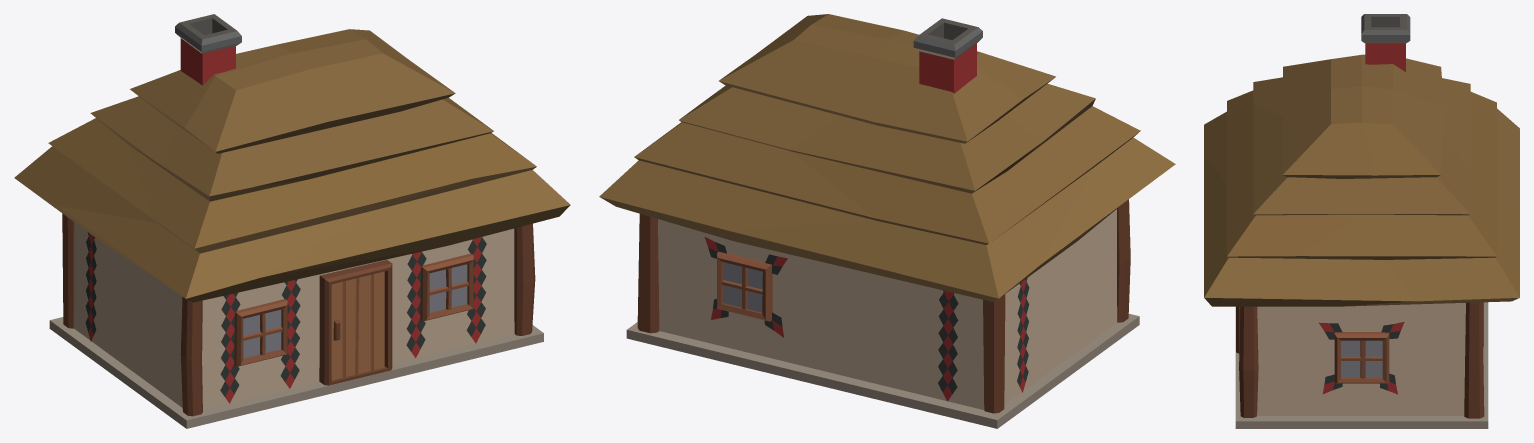
The model's file is houses_small_2.fbx.
3 renders of one model, left to right at view 1: azimuth 30°, elevation 25°; view 2: azimuth 150°, elevation 25°; view 3: azimuth 270°, elevation 25°, orthographic. The views are drawn at different scales.
Visible parts, largest first — view 1: house_small_2; view 2: house_small_2; view 3: house_small_2.
Boxes of the visible parts, bbox=[...] form: house_small_2: bbox=[14, 14, 570, 428]; house_small_2: bbox=[599, 14, 1175, 428]; house_small_2: bbox=[1204, 14, 1519, 428].
Bounding box in the file's own units: 343 × 270 × 264.
